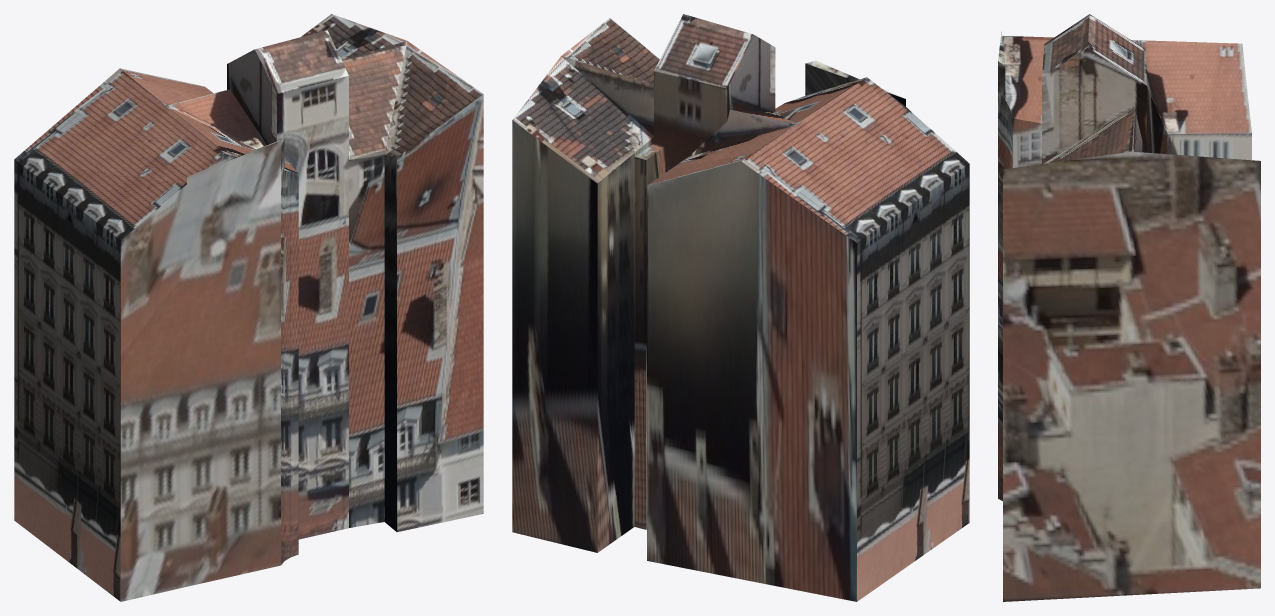
3 renders of one model, left to right at view 1: azimuth 30°, elevation 25°; view 2: azimuth 150°, elevation 25°; view 3: azimuth 270°, elevation 25°, orthographic. The views are drawn at different scales.
Parts seen in each view (by area): view 1: Z_UP; view 2: Z_UP; view 3: Z_UP.
Boxes of the visible parts, box(x1,y1,x2,y2) form: Z_UP: box(14, 14, 483, 601); Z_UP: box(512, 14, 969, 601); Z_UP: box(998, 14, 1260, 601).
Size of the model in its own units: 23.46 by 29.79 by 14.3.
2 materials, 1 textured.
